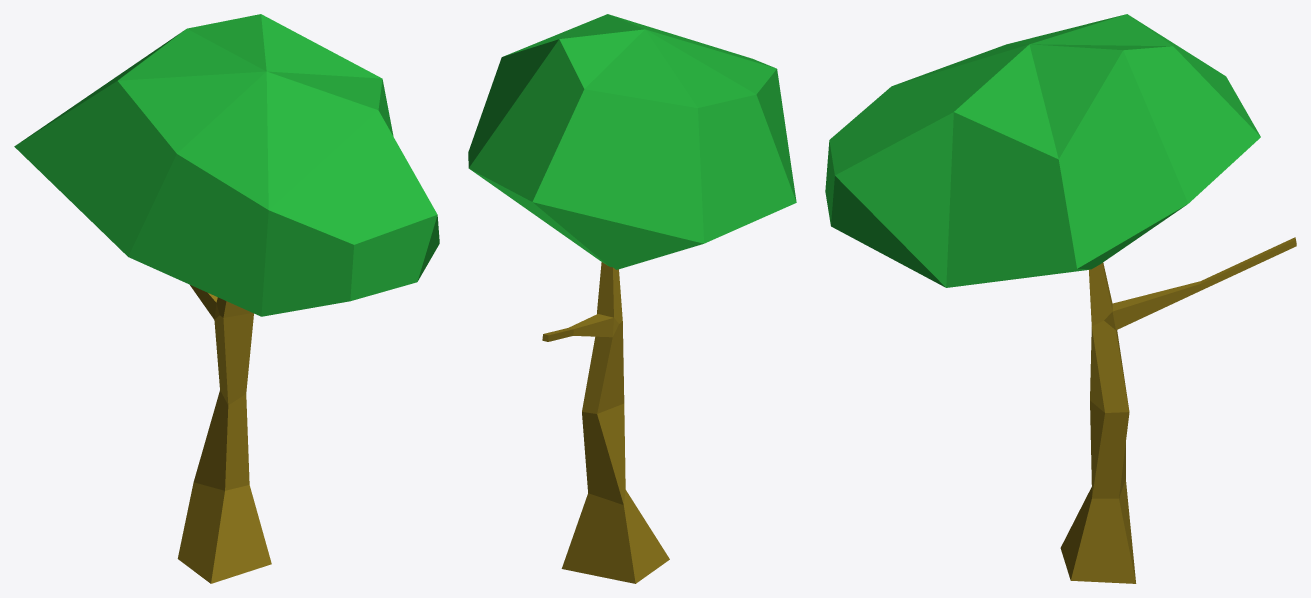
Rendered from tree.FBX.
3 views of the same model, side by side, from view 1: azimuth 30°, elevation 25°; view 2: azimuth 150°, elevation 25°; view 3: azimuth 270°, elevation 25° (orthographic). The views are drawn at different scales.
Parts seen in each view (by area): view 1: Box002; view 2: Box002; view 3: Box002.
Boxes of the visible parts, left/top/right/bottom form: Box002: left=14, top=14, right=439, bottom=583; Box002: left=468, top=14, right=796, bottom=583; Box002: left=825, top=14, right=1296, bottom=583.
Size of the model in its own units: 320 by 518 by 411.
